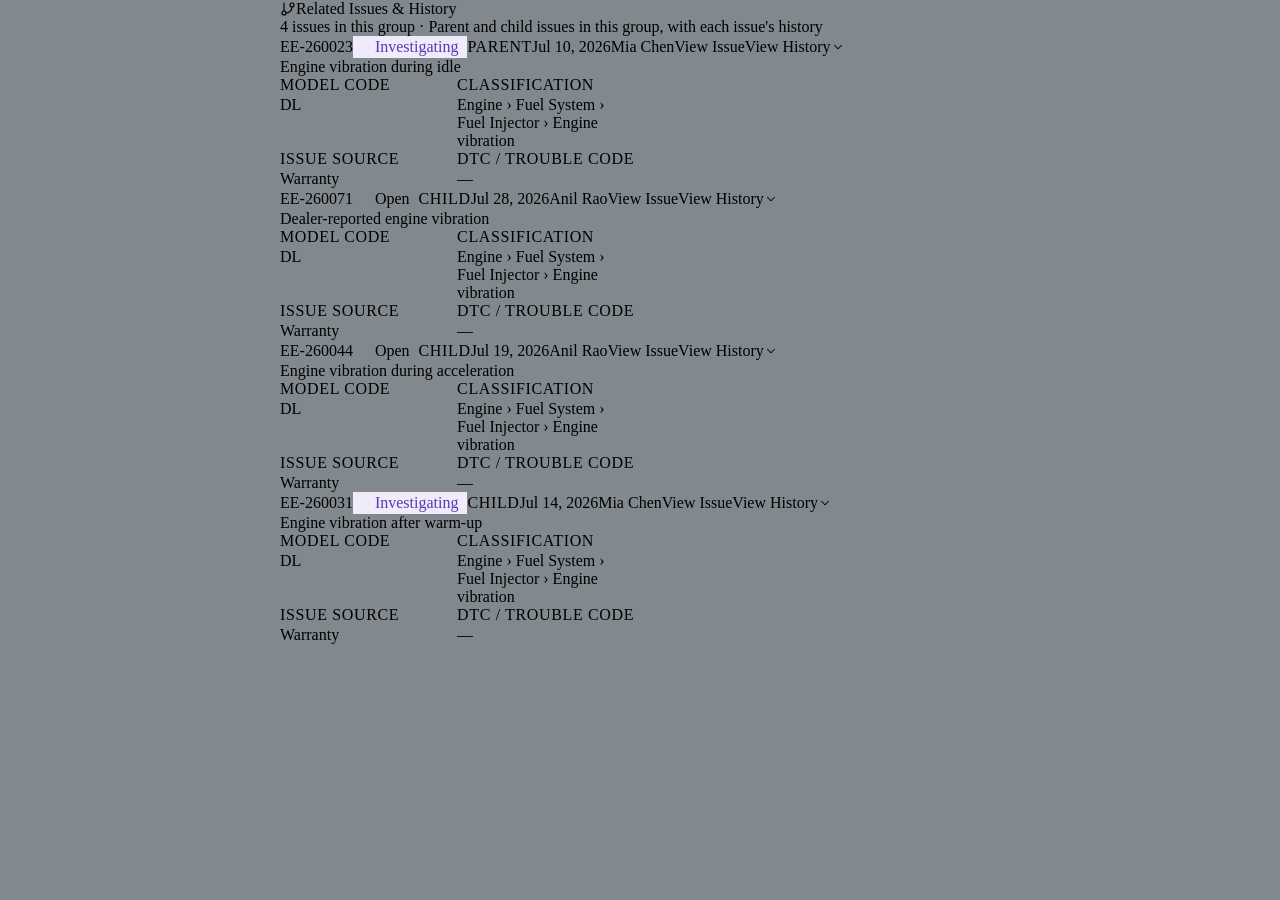
Test: the member accordion › expands to reveal that member timeline, and collapses again
The width and height of the screenshot is (1280, 900).
Click the button that starts with "EE-260023".
click(316, 46)  # box [280,36,1000,188]
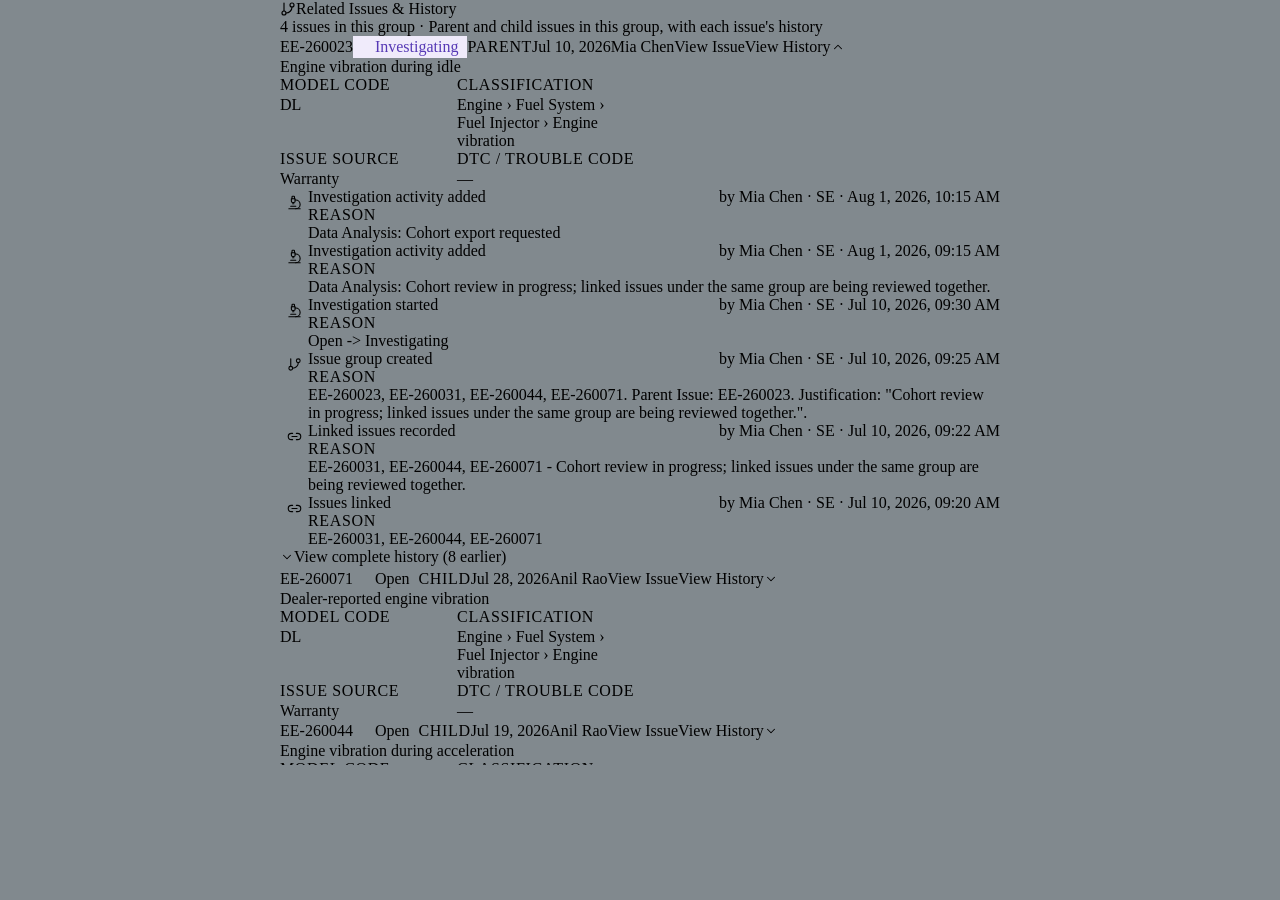
Result: the text "Investigation activity added" is shown at [308,188,486,206]
Click the button that starts with "EE-260023".
click(316, 46)  # box [280,36,1000,188]
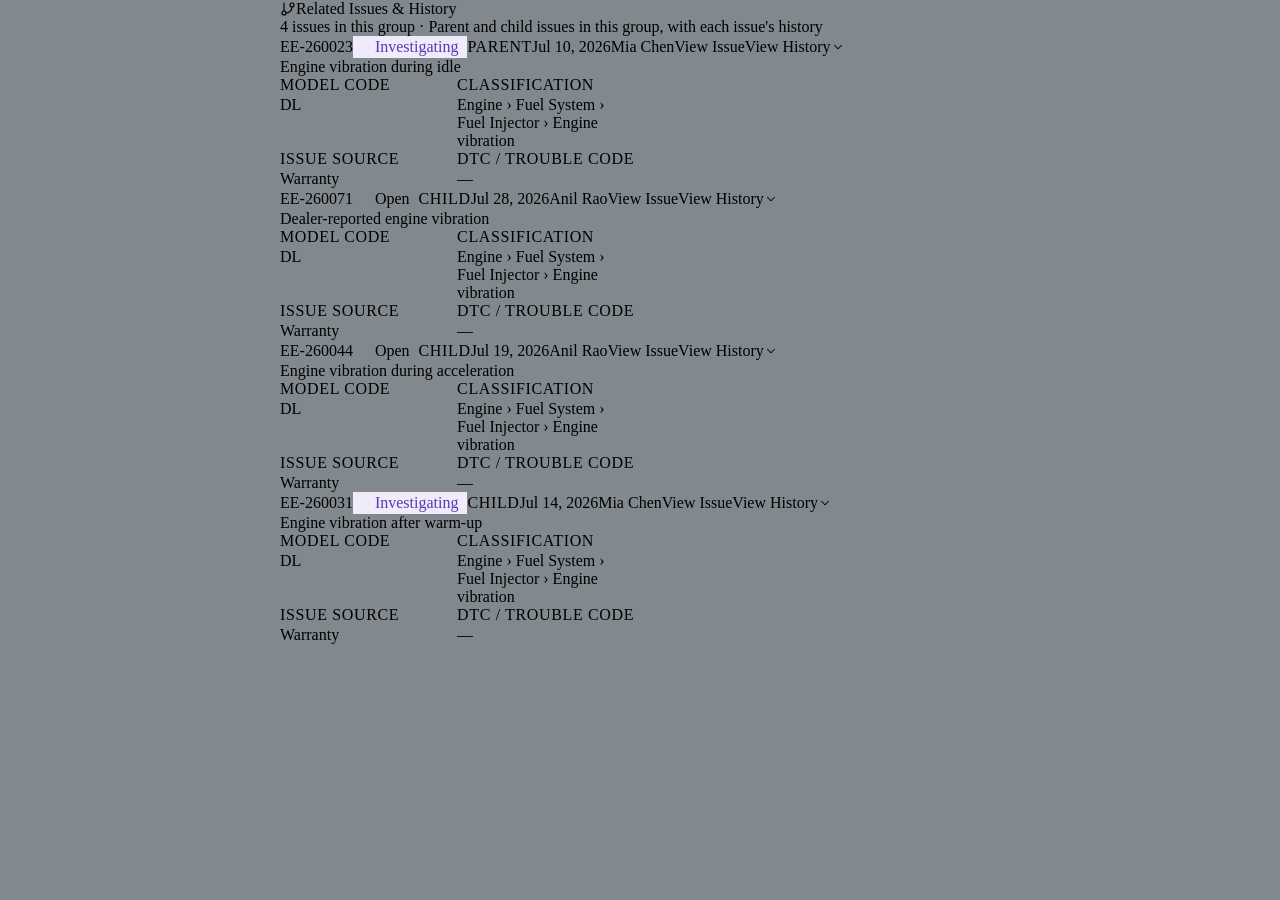
Result: the text "Investigation activity added" is gone
